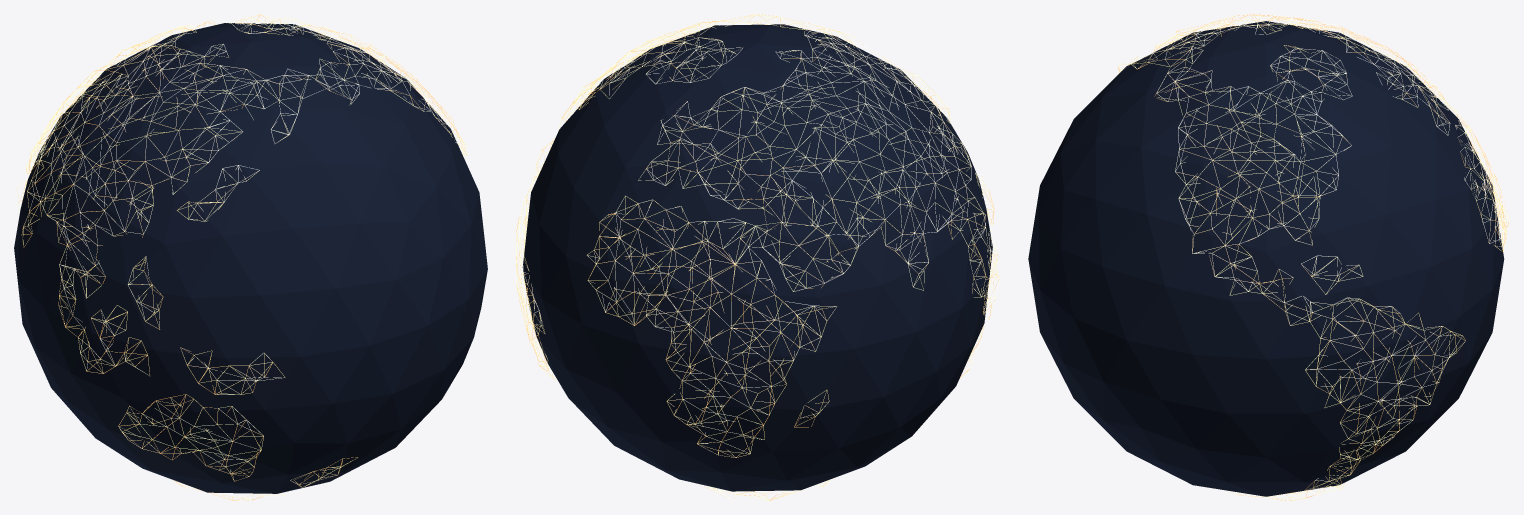
Rendered from globe.glb.
The picture shows the model from 3 angles, left to right: view 1: azimuth 30°, elevation 25°; view 2: azimuth 150°, elevation 25°; view 3: azimuth 270°, elevation 25°; orthographic projection.
Parts seen in each view (by area): view 1: Icosphere, wireframe.001; view 2: Icosphere, wireframe.001; view 3: Icosphere, wireframe.001.
Boxes of the visible parts, <box> form: Icosphere: <box>14,23,487,493</box>; wireframe.001: <box>17,14,467,500</box>; Icosphere: <box>522,24,992,491</box>; wireframe.001: <box>516,14,999,500</box>; Icosphere: <box>1028,21,1504,496</box>; wireframe.001: <box>1118,14,1509,500</box>.
Size of the model in its own units: 25.78 by 26.31 by 26.05.
